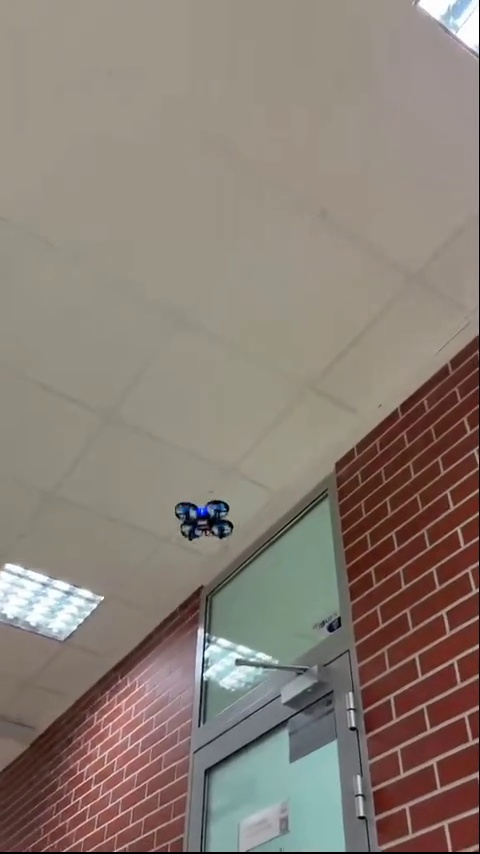drone: (171, 496, 236, 548)
